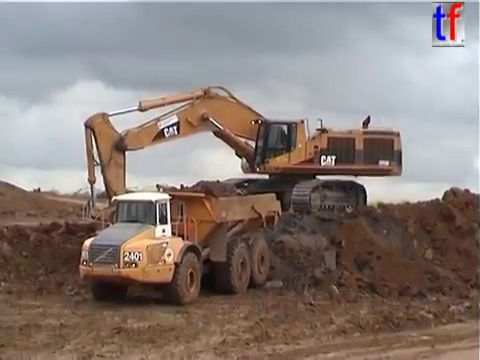excavator: (80, 84, 406, 236)
truck: (76, 187, 285, 306)
